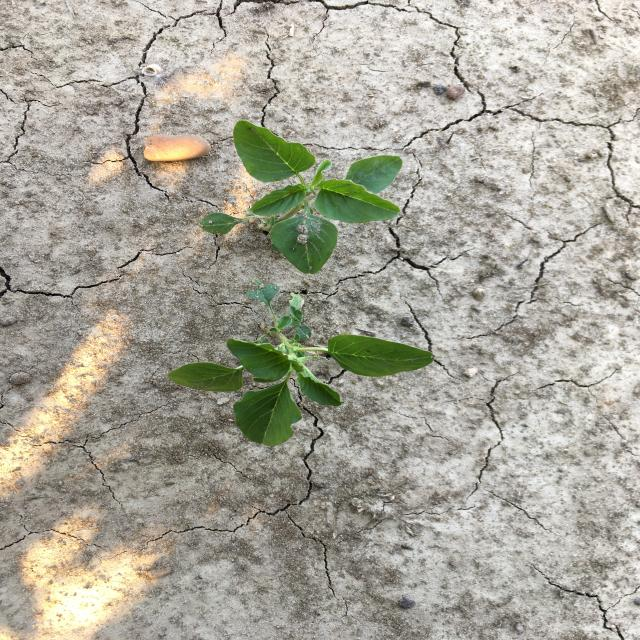PalmerAmaranth: (165, 279, 438, 448), (197, 118, 405, 276)
